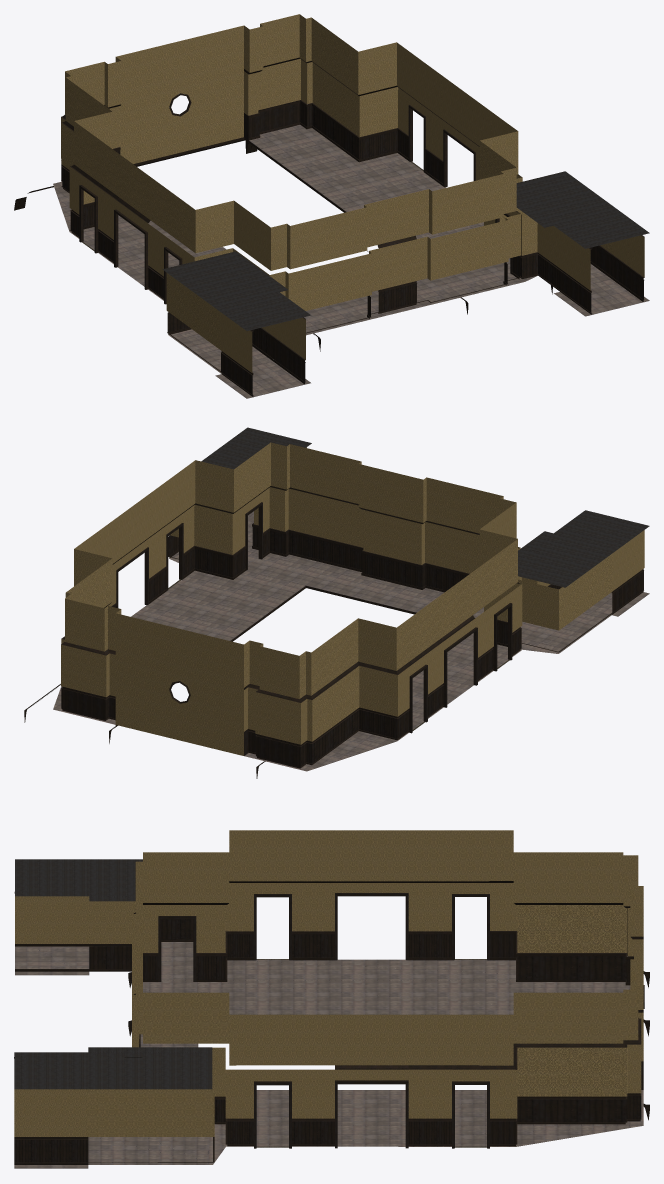
The model's file is #LVL_Entracehall-2.fbx.
The picture shows the model from 3 angles, top to bottom: view 1: azimuth 30°, elevation 25°; view 2: azimuth 150°, elevation 25°; view 3: azimuth 270°, elevation 25°; orthographic projection. The views are drawn at different scales.
Visible parts, largest first — view 1: 1gangobj_011; view 2: 1gangobj_011; view 3: 1gangobj_011.
Boxes of the visible parts, x1,y1,x2,y2 form: 1gangobj_011: [14, 14, 649, 398]; 1gangobj_011: [24, 427, 649, 778]; 1gangobj_011: [14, 830, 649, 1168].
Bounding box in the file's own units: 74.79 × 23.26 × 87.36.
